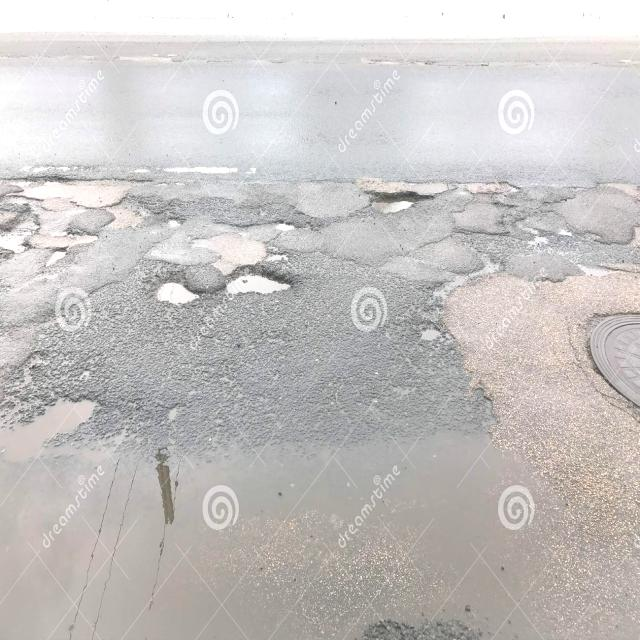Pothole: (6, 168, 640, 333)
